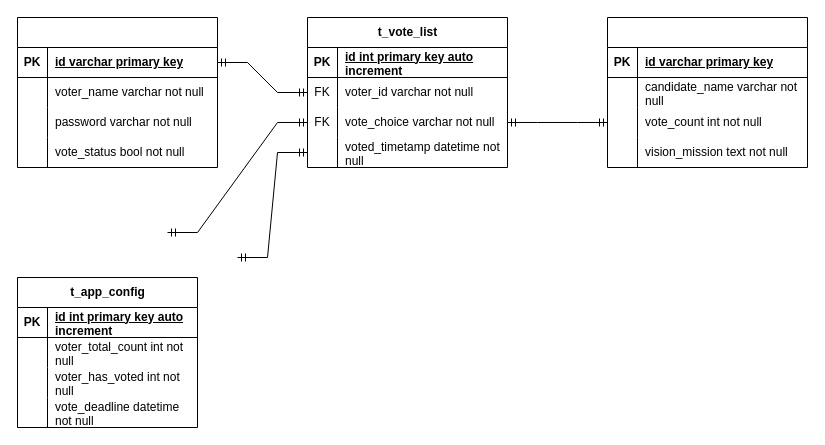
The diagram is 825 pixels wide and 445 high, and some of its shapes have lost their labels. Here are the shapes that lost their labels. From the top down, the box of each, then its label:
(16, 16, 218, 168): t_voter_detail
(606, 16, 808, 168): t_candidate_detail
